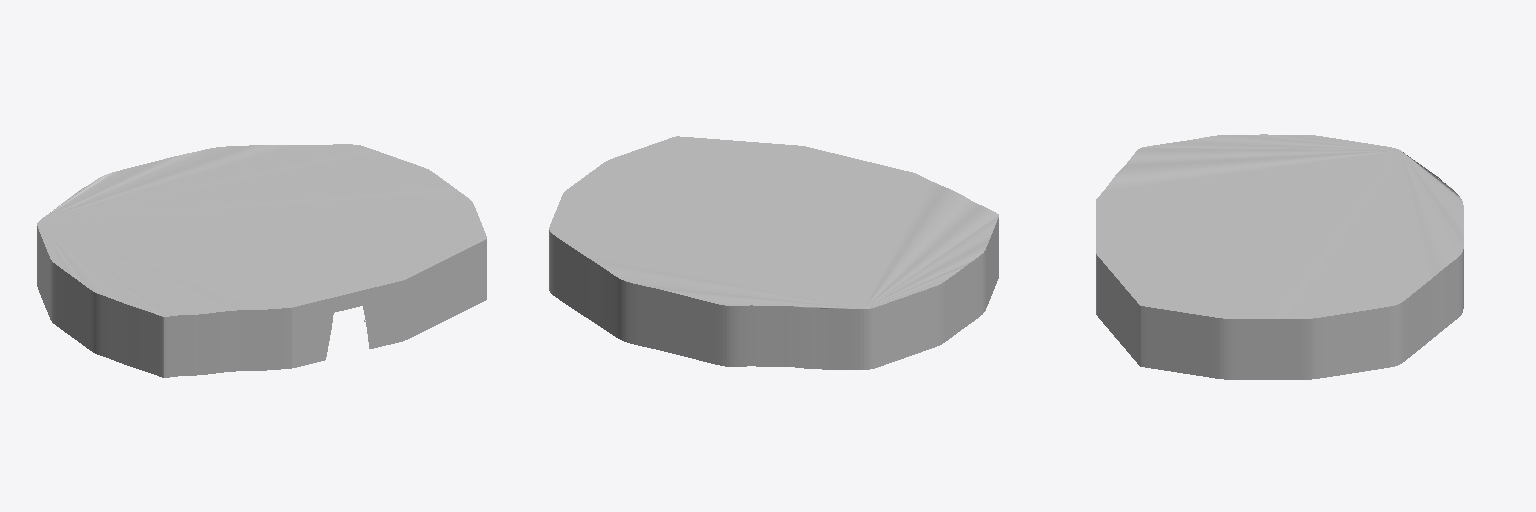
File: OuterBounds.obj
3 renders of one model, left to right at view 1: azimuth 30°, elevation 25°; view 2: azimuth 150°, elevation 25°; view 3: azimuth 270°, elevation 25°, orthographic.
Parts seen in each view (by area): view 1: OuterBounds; view 2: OuterBounds; view 3: OuterBounds.
Boxes of the visible parts, <box> form: OuterBounds: <box>37,144,486,377</box>; OuterBounds: <box>549,136,998,369</box>; OuterBounds: <box>1096,134,1463,379</box>.
Bounding box in the file's own units: 195 × 31.28 × 164.